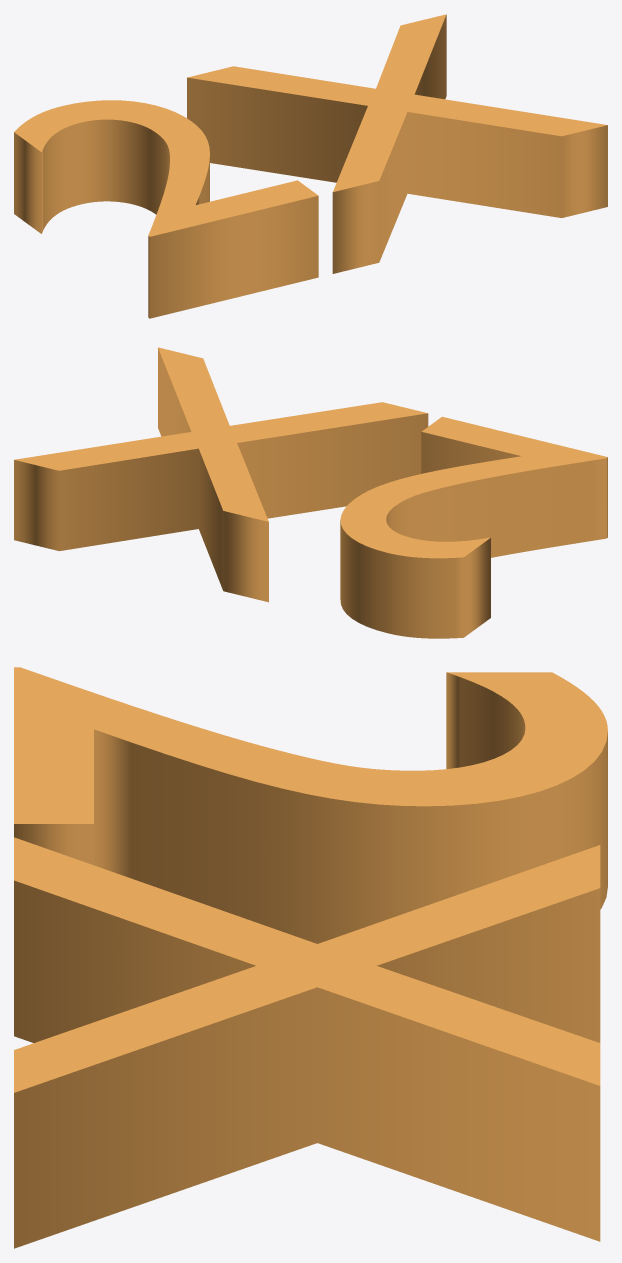
The model's file is DoublePoints.fbx.
The picture shows the model from 3 angles, top to bottom: view 1: azimuth 30°, elevation 25°; view 2: azimuth 150°, elevation 25°; view 3: azimuth 270°, elevation 25°; orthographic projection. The views are drawn at different scales.
Visible parts, largest first — view 1: Text; view 2: Text; view 3: Text.
Boxes of the visible parts, x1,y1,x2,y2 form: Text: [14, 14, 607, 318]; Text: [14, 347, 607, 638]; Text: [14, 667, 607, 1248].
Size of the model in its own units: 117 by 20 by 69.1.
